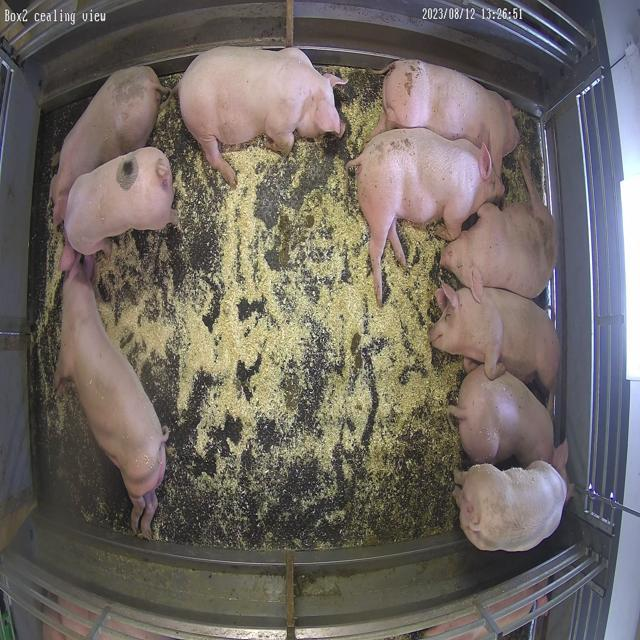Dirt: (357, 386, 463, 544)
Pig: (55, 256, 169, 540), (348, 128, 505, 304), (178, 46, 346, 186), (49, 66, 168, 224), (372, 59, 521, 178), (441, 159, 557, 302), (60, 147, 176, 270), (430, 285, 561, 392), (454, 442, 574, 552), (450, 367, 557, 467)
